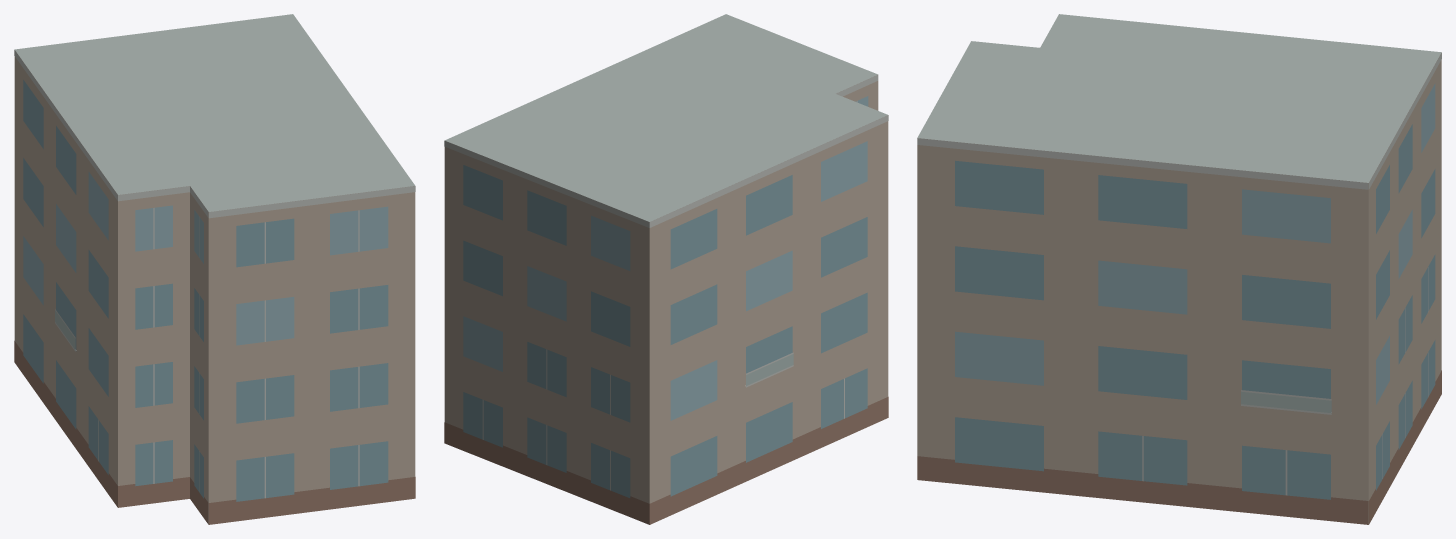
File: residential-39c6fa75-493f-427a-847b-7664f2dbc968.glb
The picture shows the model from 3 angles, left to right: view 1: azimuth 30°, elevation 25°; view 2: azimuth 150°, elevation 25°; view 3: azimuth 270°, elevation 25°; orthographic projection. The views are drawn at different scales.
Parts seen in each view (by area): view 1: residential-39c6fa75-493f-427a-847b-7664f2dbc968.tmp; view 2: residential-39c6fa75-493f-427a-847b-7664f2dbc968.tmp; view 3: residential-39c6fa75-493f-427a-847b-7664f2dbc968.tmp.
Part boxes in pixels (left/top/right/bottom): residential-39c6fa75-493f-427a-847b-7664f2dbc968.tmp: left=14, top=14, right=415, bottom=524; residential-39c6fa75-493f-427a-847b-7664f2dbc968.tmp: left=444, top=14, right=888, bottom=524; residential-39c6fa75-493f-427a-847b-7664f2dbc968.tmp: left=917, top=14, right=1441, bottom=524.
Bounding box in the file's own units: 12.94 × 12.2 × 16.98.
